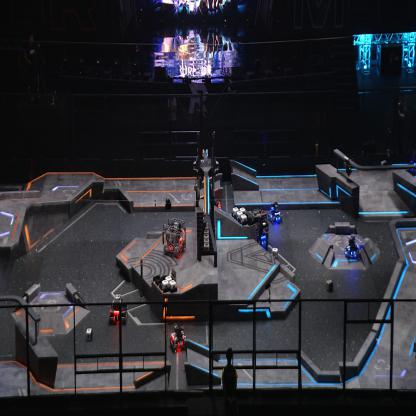car: (162, 215, 187, 258), (247, 207, 270, 252), (108, 293, 128, 325), (168, 320, 186, 353), (344, 233, 361, 259), (266, 200, 284, 224), (408, 149, 416, 177)
